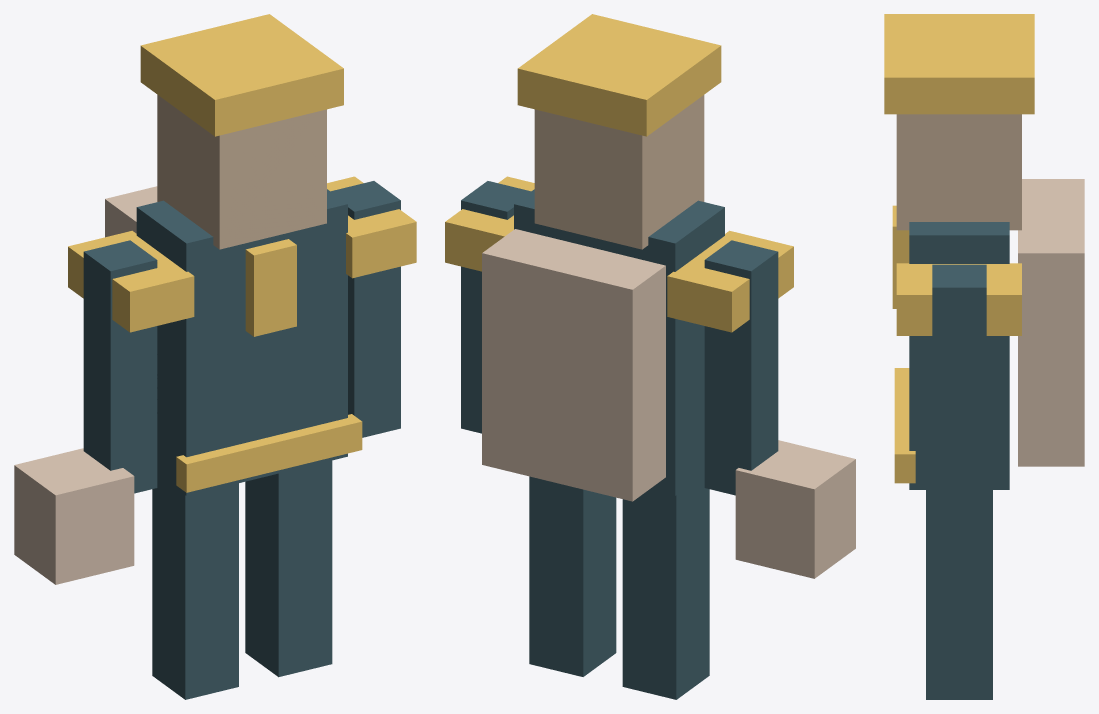
Rendered from 05_vexa_rootborne_archivist_at.glb.
The picture shows the model from 3 angles, left to right: view 1: azimuth 30°, elevation 25°; view 2: azimuth 150°, elevation 25°; view 3: azimuth 270°, elevation 25°; orthographic projection.
Parts seen in each view (by area): view 1: Vexa Rootborne, Archivist at; view 2: Vexa Rootborne, Archivist at; view 3: Vexa Rootborne, Archivist at.
Boxes of the visible parts, left/top/right/bottom form: Vexa Rootborne, Archivist at: left=14, top=14, right=416, bottom=699; Vexa Rootborne, Archivist at: left=445, top=14, right=855, bottom=699; Vexa Rootborne, Archivist at: left=884, top=14, right=1084, bottom=699.
Size of the model in its own units: 0.9228 by 1.51 by 0.4452.
